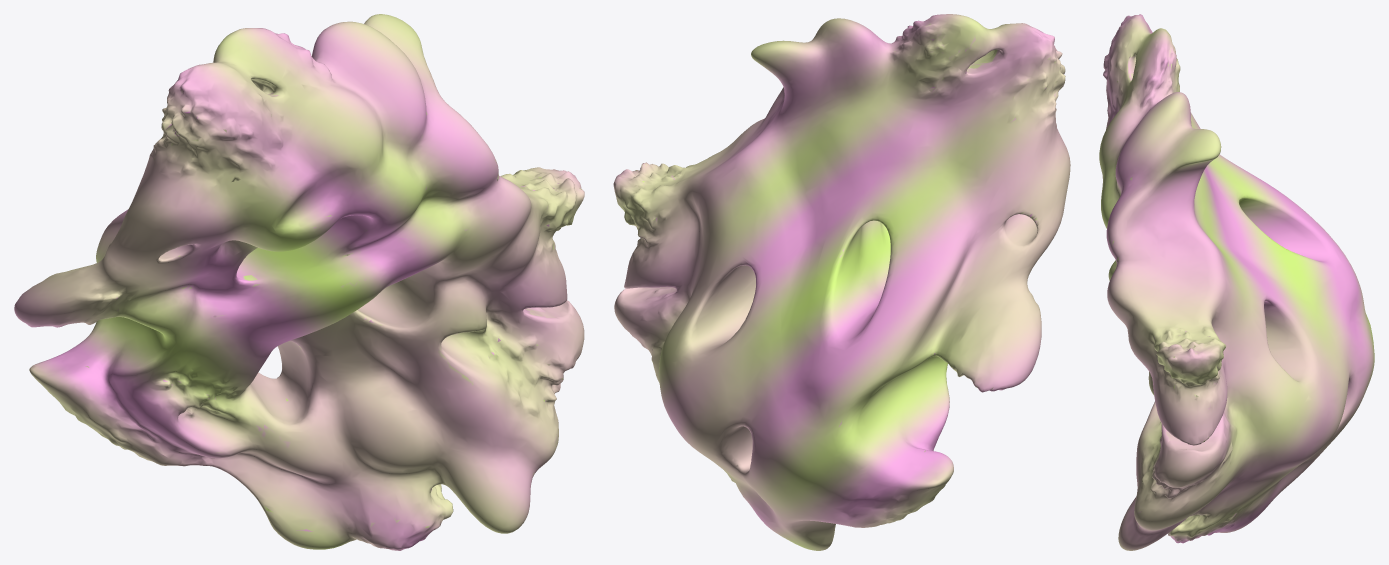
The model's file is soft-accretion.glb.
3 views of the same model, side by side, from view 1: azimuth 30°, elevation 25°; view 2: azimuth 150°, elevation 25°; view 3: azimuth 270°, elevation 25° (orthographic). The views are drawn at different scales.
Parts seen in each view (by area): view 1: 03_Soft_Accretion; view 2: 03_Soft_Accretion; view 3: 03_Soft_Accretion.
Boxes of the visible parts, x1,y1,x2,y2 form: 03_Soft_Accretion: [14, 14, 584, 550]; 03_Soft_Accretion: [613, 14, 1070, 550]; 03_Soft_Accretion: [1099, 14, 1374, 550].
Size of the model in its own units: 3.78 by 4.15 by 2.3.
1 material, 1 textured.
